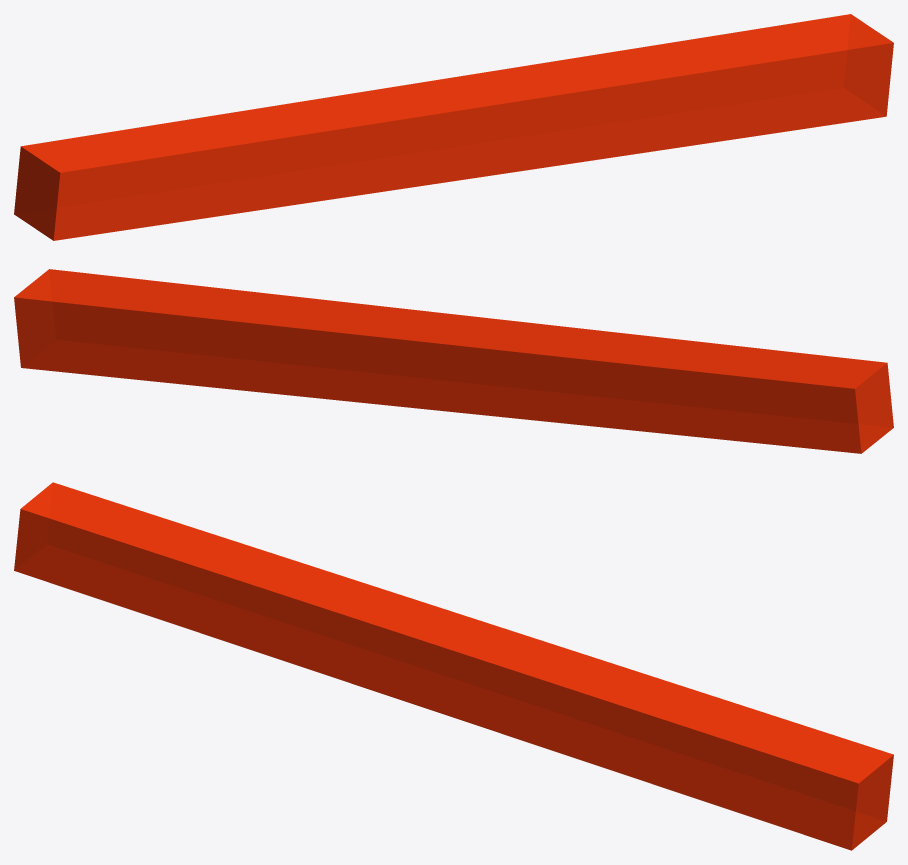
The model's file is Event_421556567_EErechit_80.fbx.
3 views of the same model, one above another, from view 1: azimuth 30°, elevation 25°; view 2: azimuth 150°, elevation 25°; view 3: azimuth 330°, elevation 25° (orthographic). The views are drawn at different scales.
Parts seen in each view (by area): view 1: Model; view 2: Model; view 3: Model.
Boxes of the visible parts, x1,y1,x2,y2 form: Model: [14, 14, 893, 240]; Model: [14, 269, 893, 453]; Model: [14, 482, 893, 850].
Bounding box in the file's own units: 0.9833 × 0.1814 × 0.1217.
